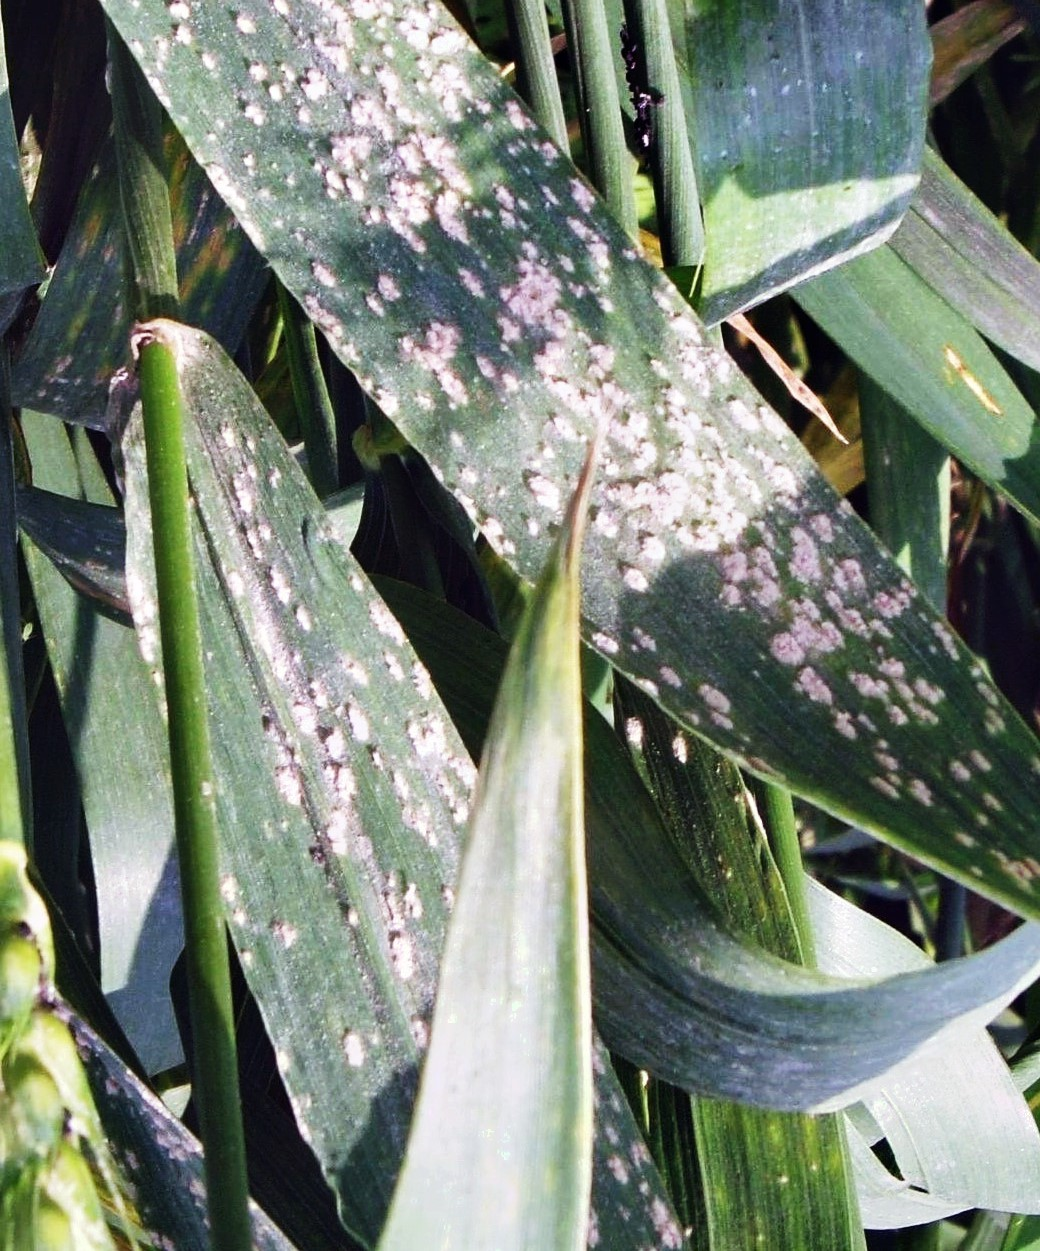Powdery Mildew: (264, 18, 972, 769)
